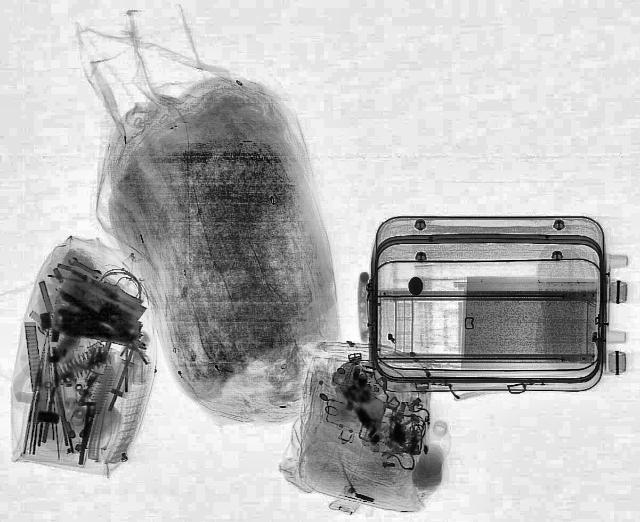Wrench: (64, 256, 102, 280)
